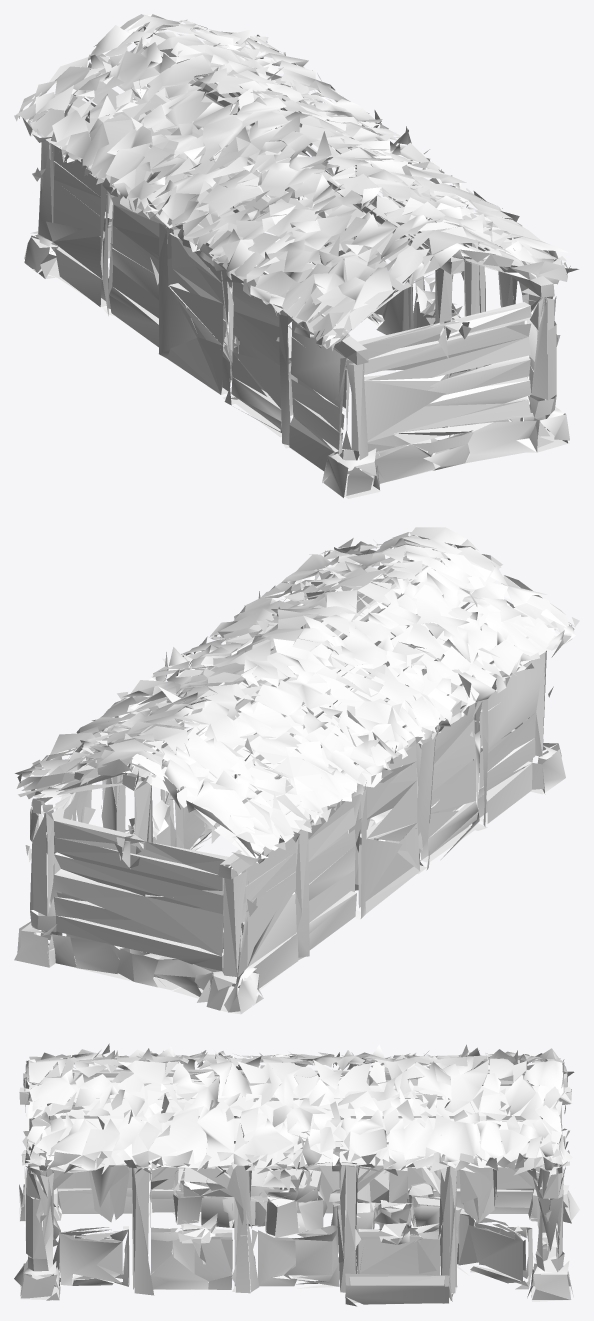
Rendered from stable_hay_lod1.glb.
The picture shows the model from 3 angles, top to bottom: view 1: azimuth 30°, elevation 25°; view 2: azimuth 150°, elevation 25°; view 3: azimuth 270°, elevation 25°; orthographic projection. The views are drawn at different scales.
Parts seen in each view (by area): view 1: stable_hay; view 2: stable_hay; view 3: stable_hay.
Boxes of the visible parts, bbox=[...] form: stable_hay: bbox=[14, 14, 578, 498]; stable_hay: bbox=[14, 527, 579, 1014]; stable_hay: bbox=[14, 1043, 579, 1306].
Bounding box in the file's own units: 6.89 × 5.81 × 14.52.
1 material, 1 textured.
